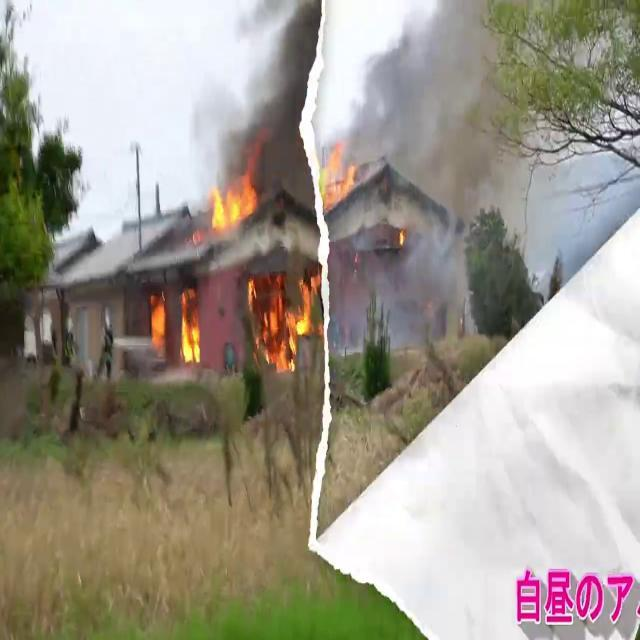Fire: (252, 270, 314, 373), (148, 288, 202, 368), (208, 170, 259, 242), (317, 134, 358, 212), (180, 294, 202, 368)
Smoke: (368, 0, 543, 352)
